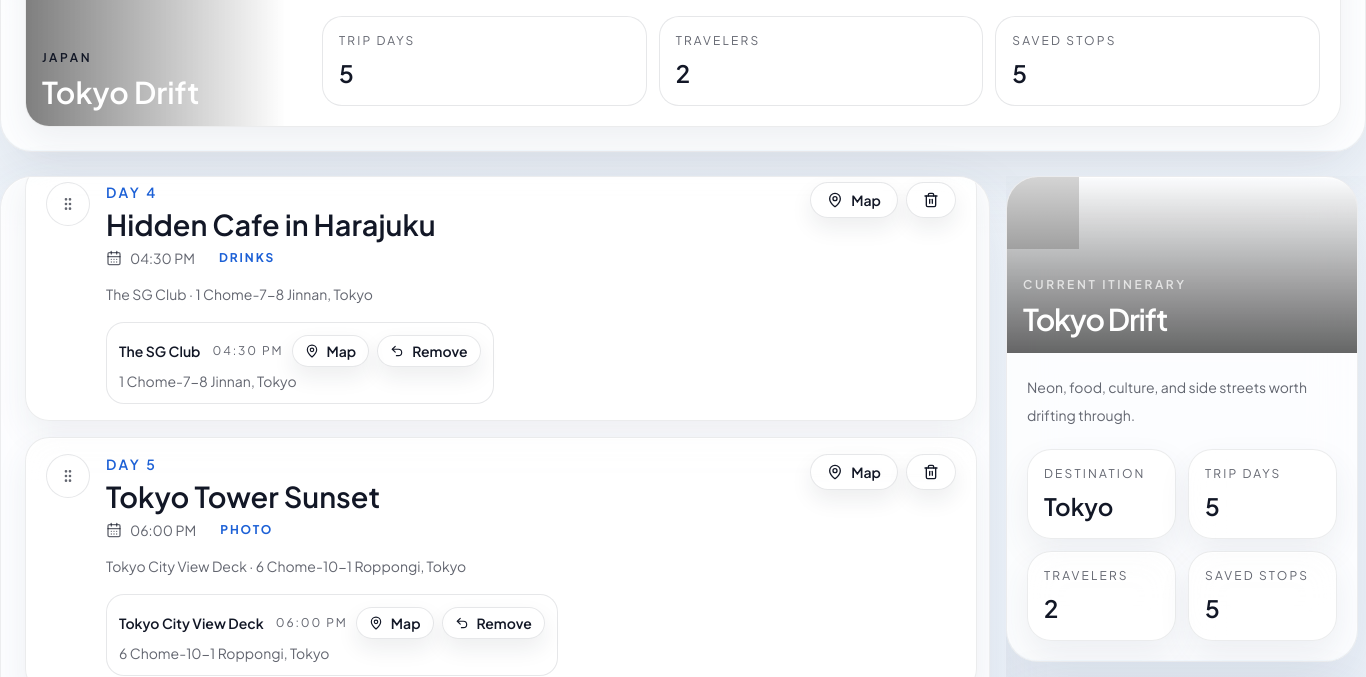
TripsBoard › returns a deleted day's place back into saved places
(page scrolled)
Click the button named "delete day 5": point(931, 472) [906,454,956,490]
(page scrolled)
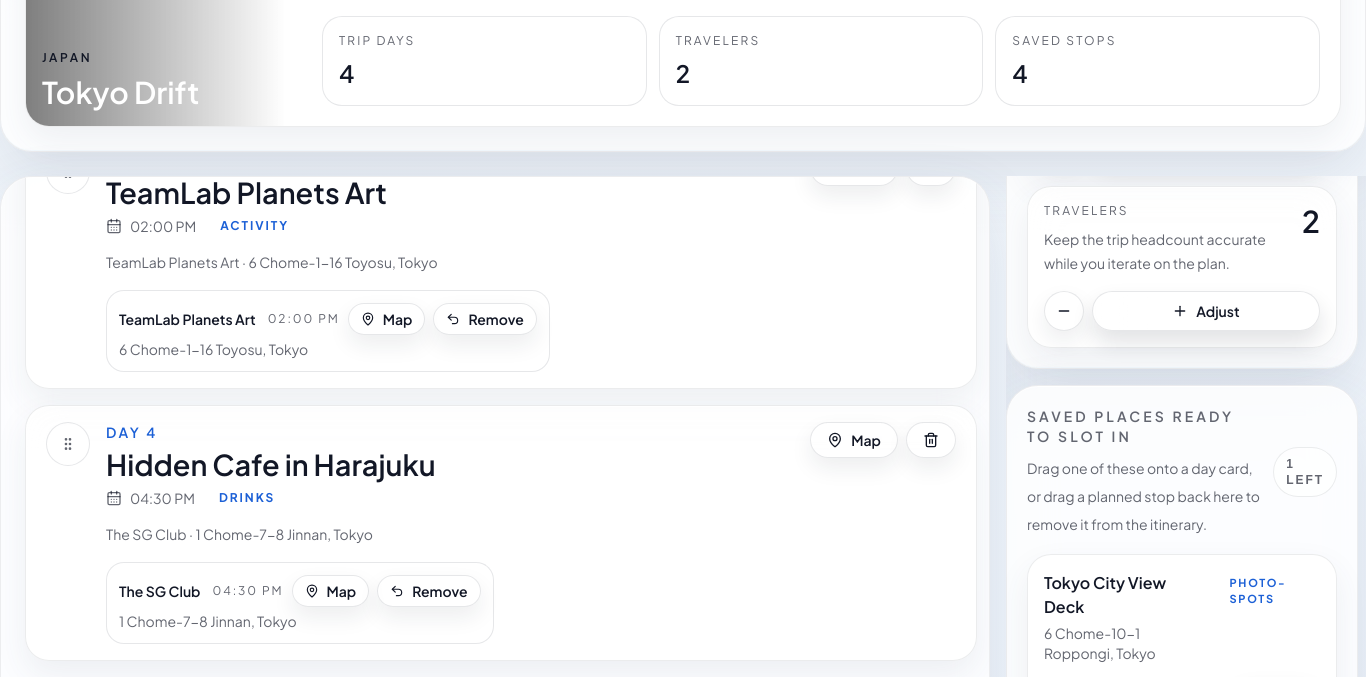
Check: the text "1 left" is shown, box [1273,447,1337,497]
